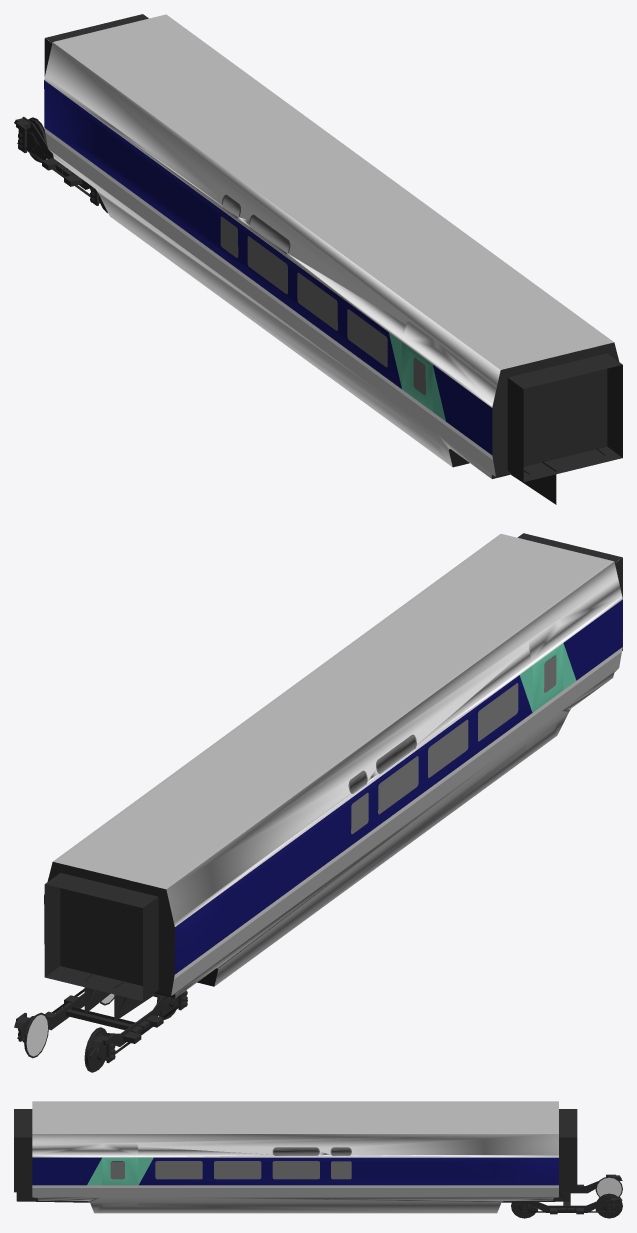
File: TGVReseau_car5.gltf
3 views of the same model, one above another, from view 1: azimuth 30°, elevation 25°; view 2: azimuth 150°, elevation 25°; view 3: azimuth 270°, elevation 25° (orthographic). The views are drawn at different scales.
Parts seen in each view (by area): view 1: Group#7, Group#7.001, boogie.009; view 2: Group#7, Group#7.001, boogie.009, boogie.008; view 3: Group#7.001, Group#7, boogie.008, boogie.009.
Boxes of the visible parts, bbox=[...] form: Group#7: bbox=[44, 14, 622, 504]; Group#7.001: bbox=[44, 14, 619, 482]; boogie.009: bbox=[14, 116, 107, 212]; Group#7: bbox=[44, 533, 622, 1021]; Group#7.001: bbox=[44, 534, 622, 1014]; boogie.009: bbox=[66, 990, 187, 1072]; boogie.008: bbox=[14, 988, 157, 1058]; Group#7.001: bbox=[14, 1109, 577, 1213]; Group#7: bbox=[14, 1101, 577, 1192]; boogie.008: bbox=[511, 1193, 622, 1218]; boogie.009: bbox=[563, 1174, 622, 1205].
Bounding box in the file's own units: 3.15 × 3.62 × 21.65.
